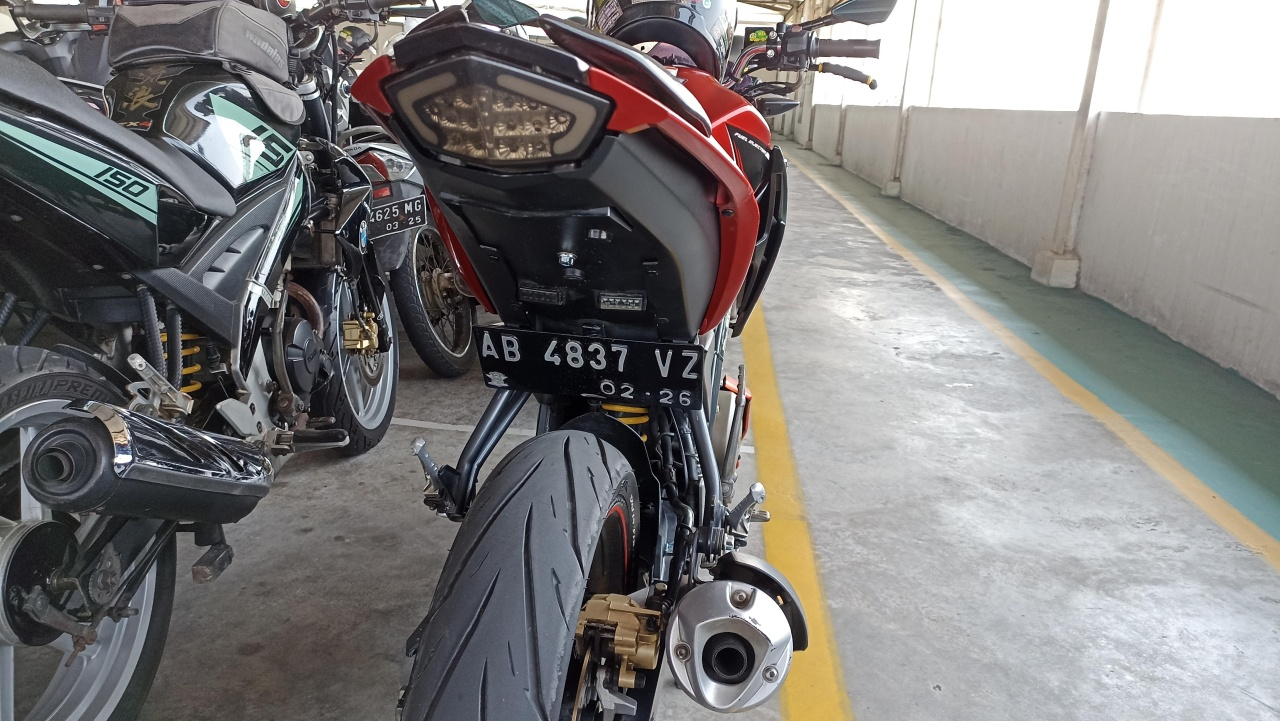plate: (473, 325, 703, 411)
